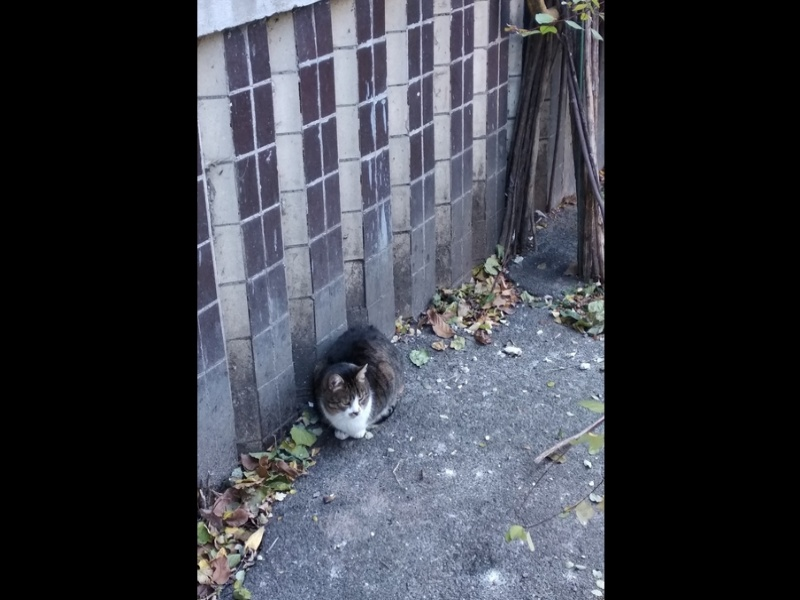cat: (315, 321, 404, 448)
